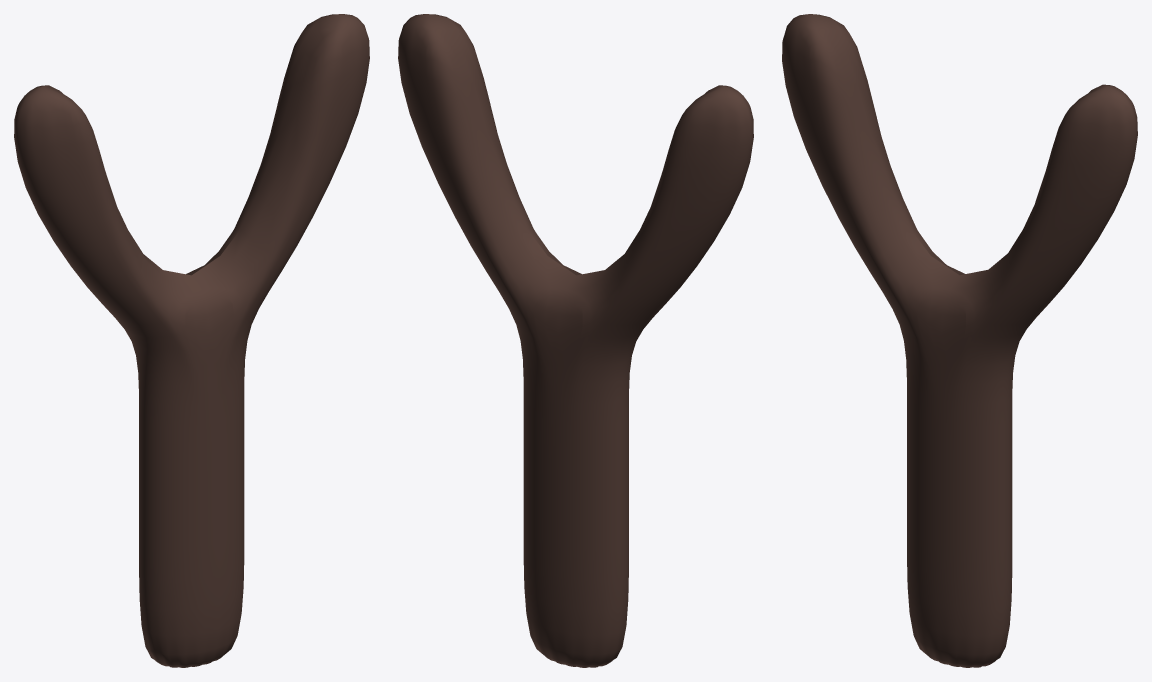
File: slingshot 1.fbx
3 views of the same model, side by side, from view 1: azimuth 30°, elevation 25°; view 2: azimuth 150°, elevation 25°; view 3: azimuth 330°, elevation 25° (orthographic).
Visible parts, largest first — view 1: Subdivision_SurfaceCylinder; view 2: Subdivision_SurfaceCylinder; view 3: Subdivision_SurfaceCylinder.
Part boxes in pixels (box(x1,y1,x2,y2)): Subdivision_SurfaceCylinder: box(14, 14, 369, 667); Subdivision_SurfaceCylinder: box(398, 14, 753, 667); Subdivision_SurfaceCylinder: box(782, 14, 1137, 667).
Bounding box in the file's own units: 143 × 236 × 26.27.
